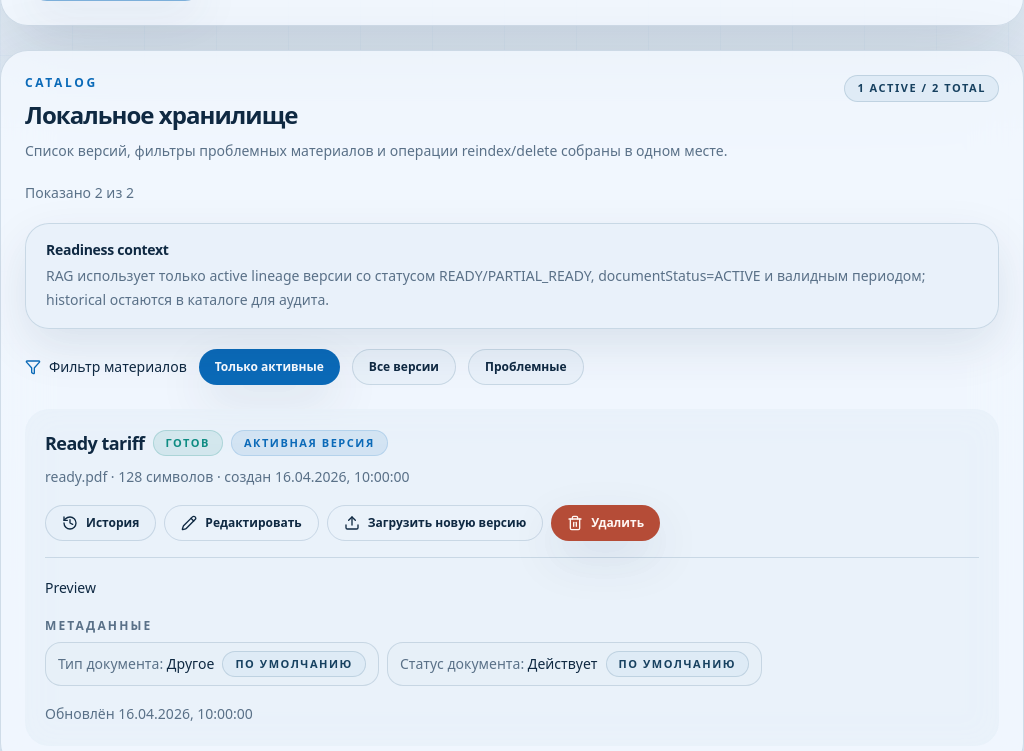
Test case: MaterialsPanel › shows controlled version upload only for active material versions
The width and height of the screenshot is (1024, 751).
(page scrolled)
Click the button "Все версии" at (404, 367), box [352,349,456,385]
(page scrolled)
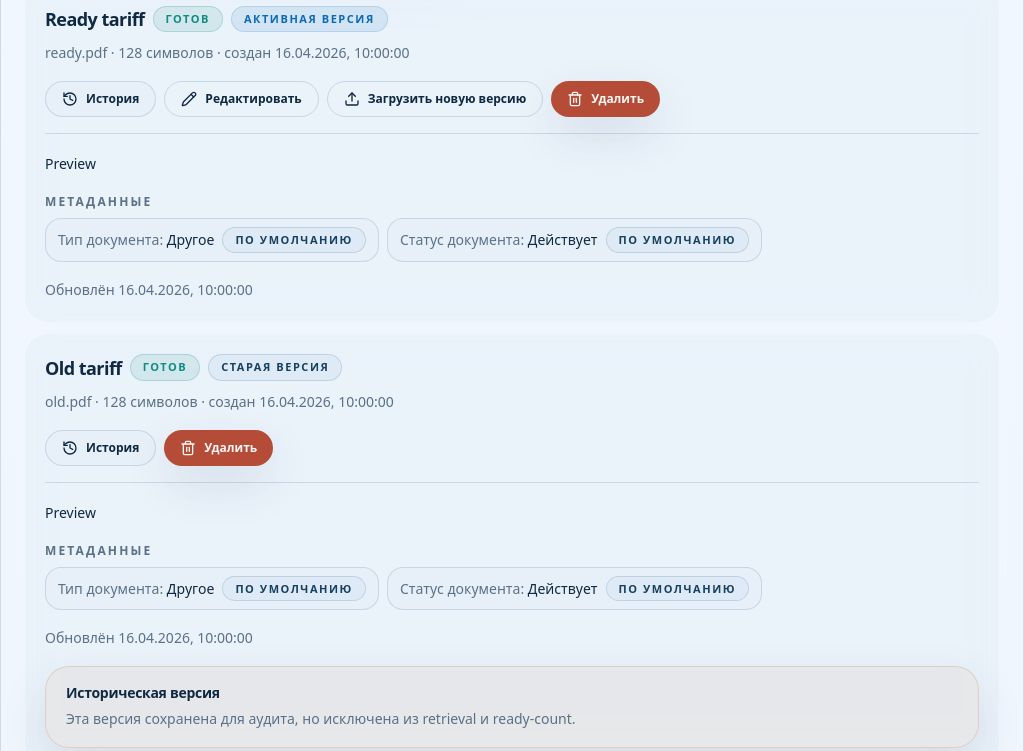
Check: the heading "Ready tariff" is shown, box [45,5,144,33]
Check: the heading "Old tariff" is shown, box [45,354,122,382]
Check: the number of buttons "Загрузить новую версию" is 1, box [327,81,543,117]
